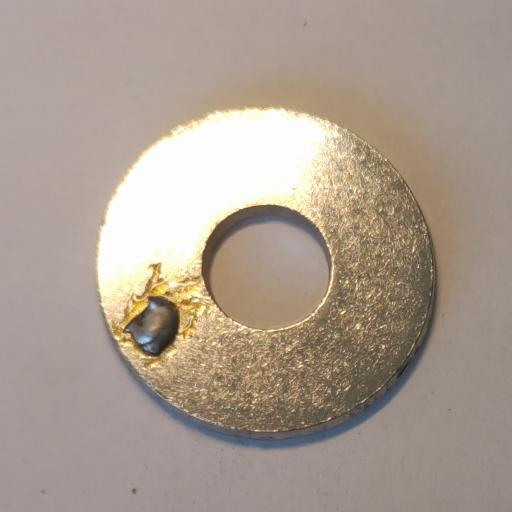excess_material: (123, 296, 178, 356)
